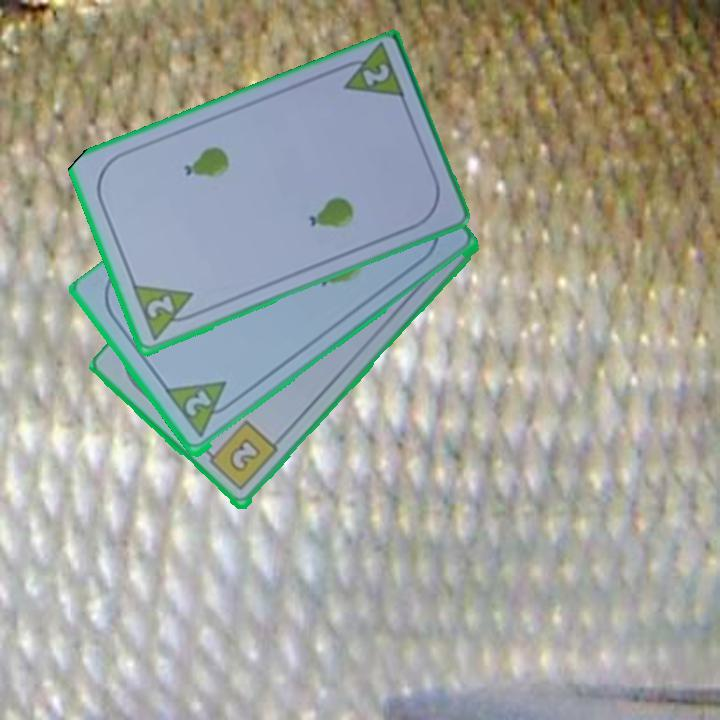2b: (200, 418, 281, 494)
2p: (128, 281, 203, 344), (181, 387, 214, 420), (358, 60, 392, 90)
